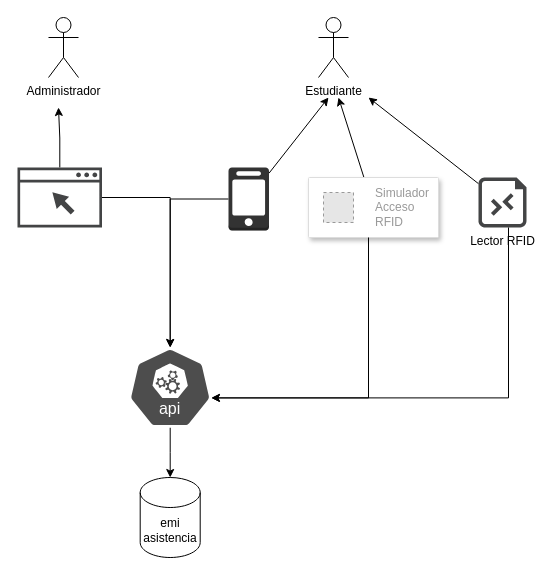
The diagram is 552 pixels wide and 575 high, and some of its shapes have lost their labels. Grey dashed boxes stand in for pictures. Each missing label, with the centre of its shape:
"Aplicacion Web" goes at (59,197).
"Mobil" goes at (248,198).
